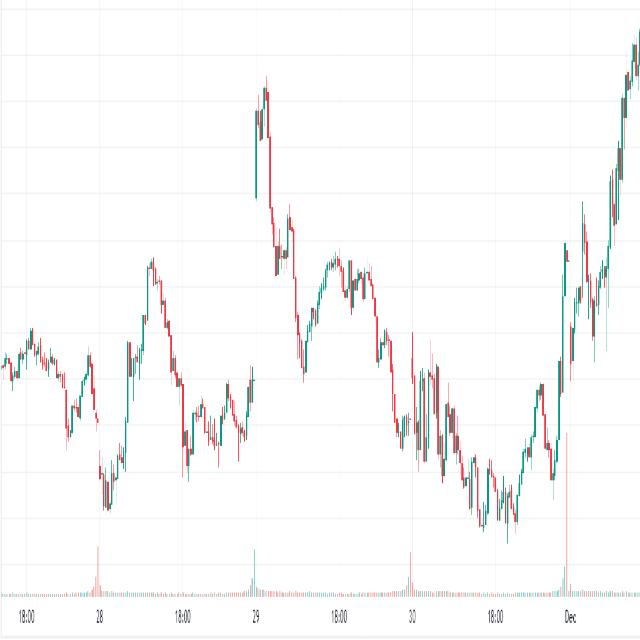Falling-Wedge: (284, 107, 484, 542)
Head-Shoulders: (121, 234, 186, 423)
Rounding-Bottom: (267, 121, 632, 549)
